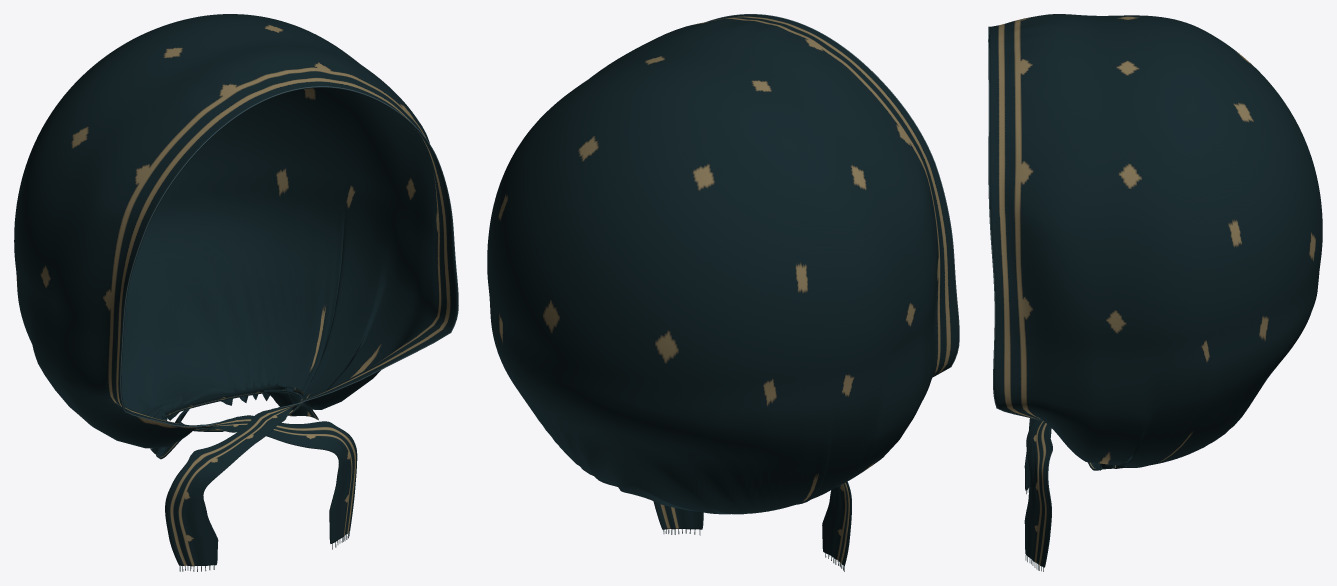
The model's file is Masculine-Masculine-flow-tshirt-pashmina250-headgear-f4e31eff.glb.
The picture shows the model from 3 angles, left to right: view 1: azimuth 30°, elevation 25°; view 2: azimuth 150°, elevation 25°; view 3: azimuth 270°, elevation 25°; orthographic projection. The views are drawn at different scales.
Parts seen in each view (by area): view 1: 226 headgear / Headwear / continuous woven pashmina239, 226 headgear / Headwear / face edge239; view 2: 226 headgear / Headwear / continuous woven pashmina239, 226 headgear / Headwear / face edge239; view 3: 226 headgear / Headwear / continuous woven pashmina239, 226 headgear / Headwear / face edge239.
Part boxes in pixels (x1=…): 226 headgear / Headwear / continuous woven pashmina239: x1=14, y1=14, x2=457, y2=566; 226 headgear / Headwear / face edge239: x1=120, y1=86, x2=458, y2=427; 226 headgear / Headwear / continuous woven pashmina239: x1=487, y1=14, x2=958, y2=565; 226 headgear / Headwear / face edge239: x1=706, y1=14, x2=959, y2=376; 226 headgear / Headwear / continuous woven pashmina239: x1=989, y1=14, x2=1322, y2=567; 226 headgear / Headwear / face edge239: x1=988, y1=26, x2=1042, y2=420.
Size of the model in its own units: 1.1 by 1.42 by 0.8633.
3 materials, 1 textured.
